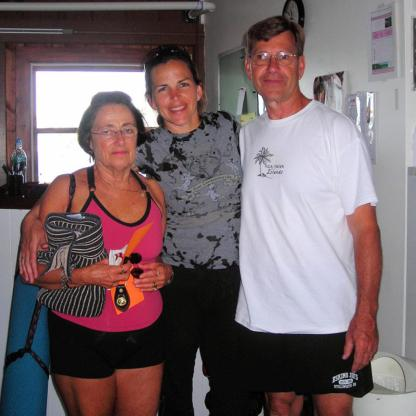face: (250, 36, 301, 96), (149, 63, 198, 124), (94, 105, 141, 167)
